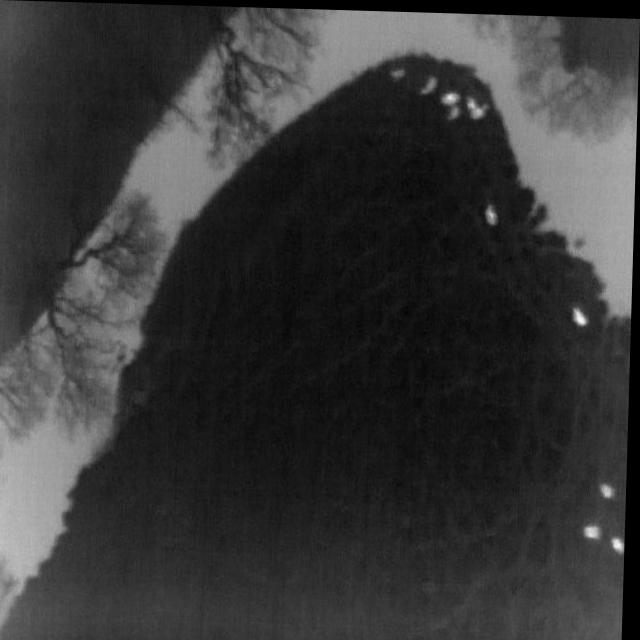deer: (573, 303, 592, 323), (470, 100, 491, 117), (421, 74, 439, 92), (585, 521, 605, 537), (486, 201, 500, 223), (440, 89, 462, 103), (601, 479, 619, 496), (446, 102, 462, 120), (614, 532, 628, 551), (466, 92, 478, 107), (390, 67, 405, 78)
